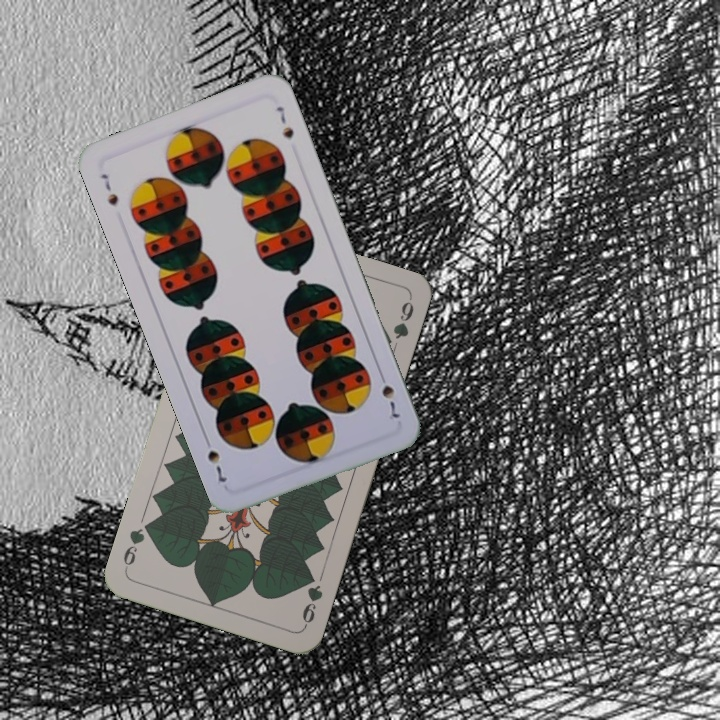G9: (298, 569, 326, 630)
S7: (375, 367, 403, 424), (96, 169, 121, 208)
